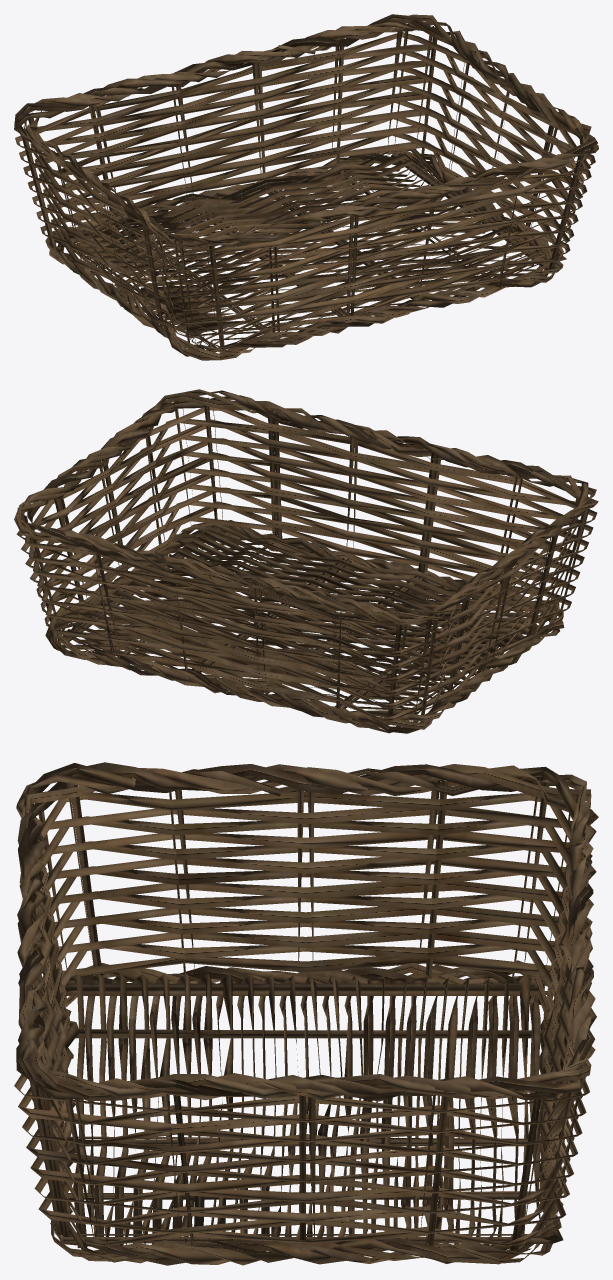
File: wicker_basket_01.glb
3 renders of one model, top to bottom at view 1: azimuth 30°, elevation 25°; view 2: azimuth 150°, elevation 25°; view 3: azimuth 270°, elevation 25°, orthographic. The views are drawn at different scales.
Visible parts, largest first — view 1: wicker_basket_01; view 2: wicker_basket_01; view 3: wicker_basket_01.
Boxes of the visible parts, x1,y1,x2,y2 form: wicker_basket_01: [14, 14, 598, 360]; wicker_basket_01: [14, 389, 598, 733]; wicker_basket_01: [14, 762, 598, 1265].
Bounding box in the file's own units: 0.383 × 0.1174 × 0.2939.
1 material, 1 textured.
